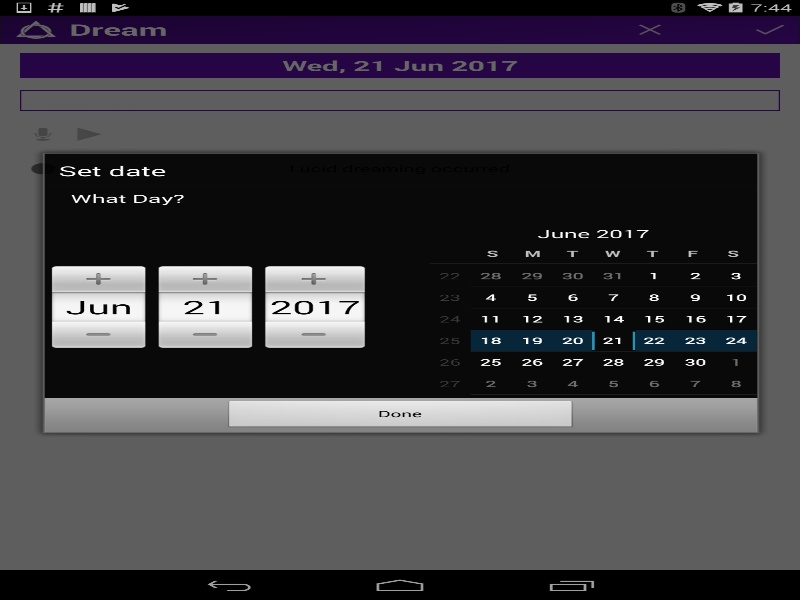Button: (224, 400, 577, 430), (260, 264, 370, 292), (260, 321, 370, 349), (46, 264, 150, 292), (46, 321, 150, 349), (153, 264, 257, 292), (153, 321, 257, 349)
Input: (260, 292, 370, 321), (46, 292, 150, 321), (153, 292, 257, 321)
